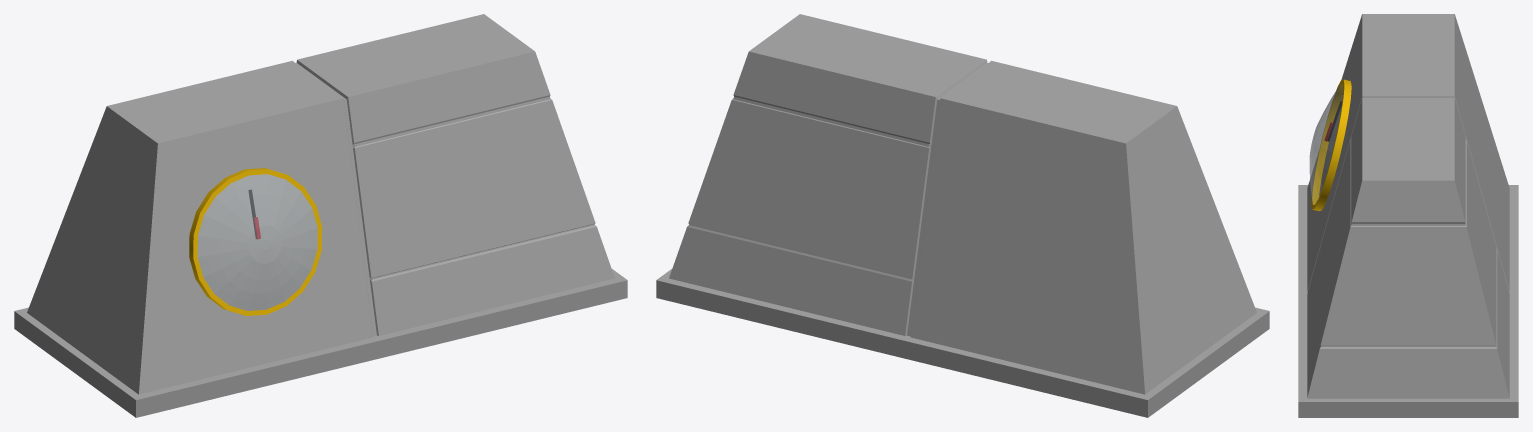
The model's file is reloj.fbx.
The picture shows the model from 3 angles, left to right: view 1: azimuth 30°, elevation 25°; view 2: azimuth 150°, elevation 25°; view 3: azimuth 270°, elevation 25°; orthographic projection. The views are drawn at different scales.
Visible parts, largest first — view 1: baseReloj1, cilindroReloj; view 2: baseReloj1; view 3: baseReloj1, cilindroReloj.
Boxes of the visible parts, x1,y1,x2,y2 form: baseReloj1: [14, 14, 627, 417]; cilindroReloj: [189, 168, 322, 315]; baseReloj1: [656, 14, 1269, 417]; baseReloj1: [1298, 14, 1518, 417]; cilindroReloj: [1309, 79, 1351, 211].
Size of the model in its own units: 300 by 137 by 129.
